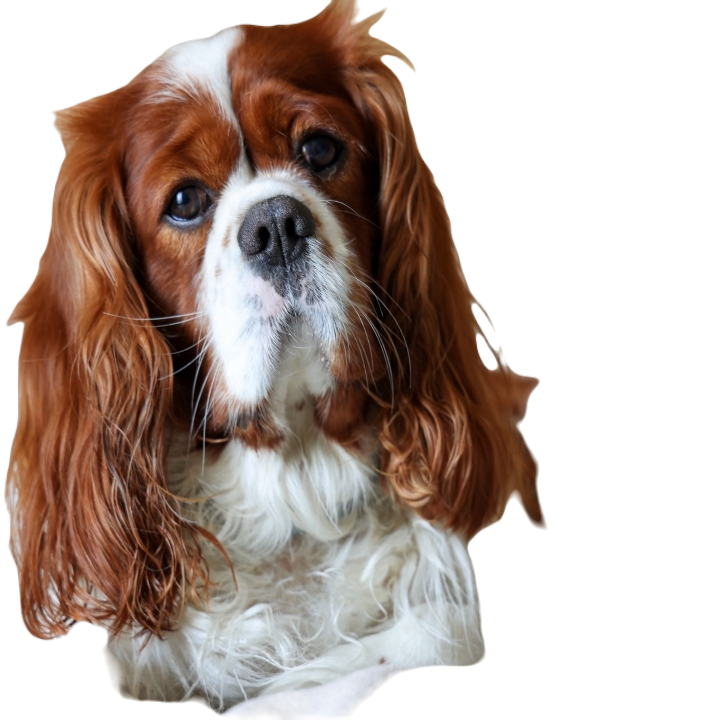Dog: (5, 0, 543, 717)
